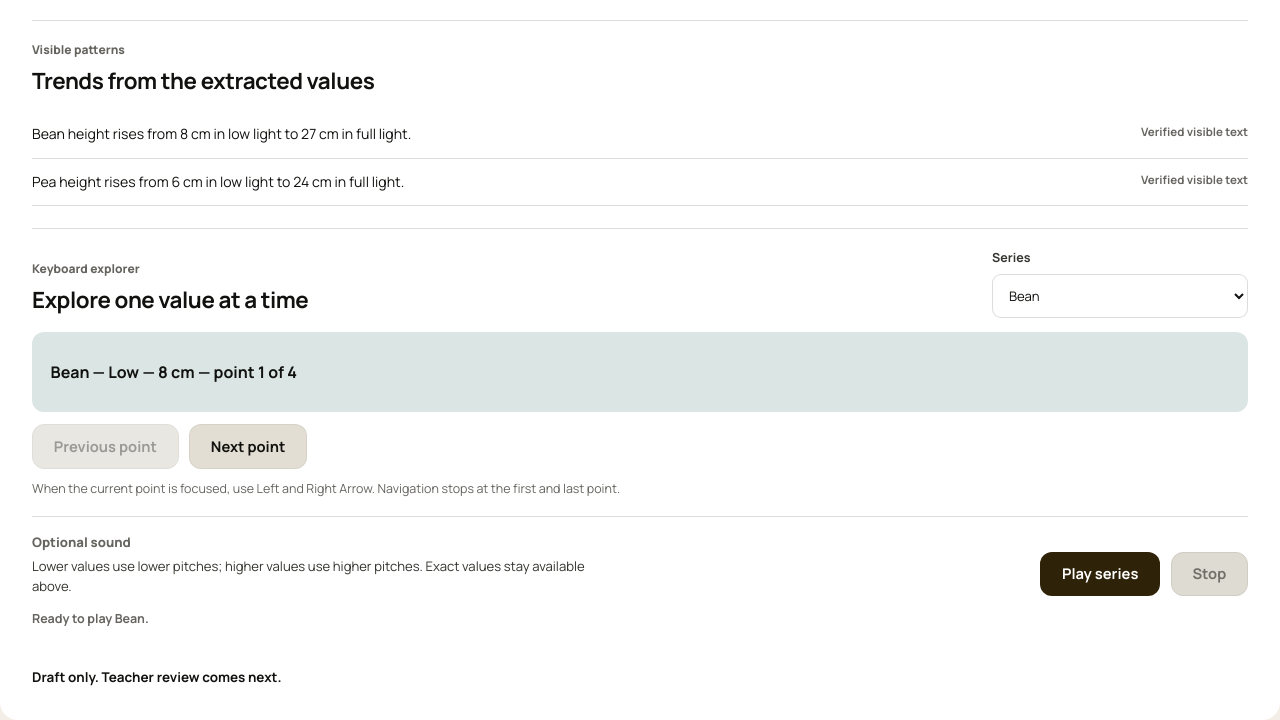
ChartLessonView › resets to the first point when the series changes
(page scrolled)
Expected: the text "Bean — Low — 8 cm — point 1 of 4" is shown, [32, 332, 1248, 412]
Step 1. Click the button "Next point" → (248, 446), box [189, 424, 307, 469]
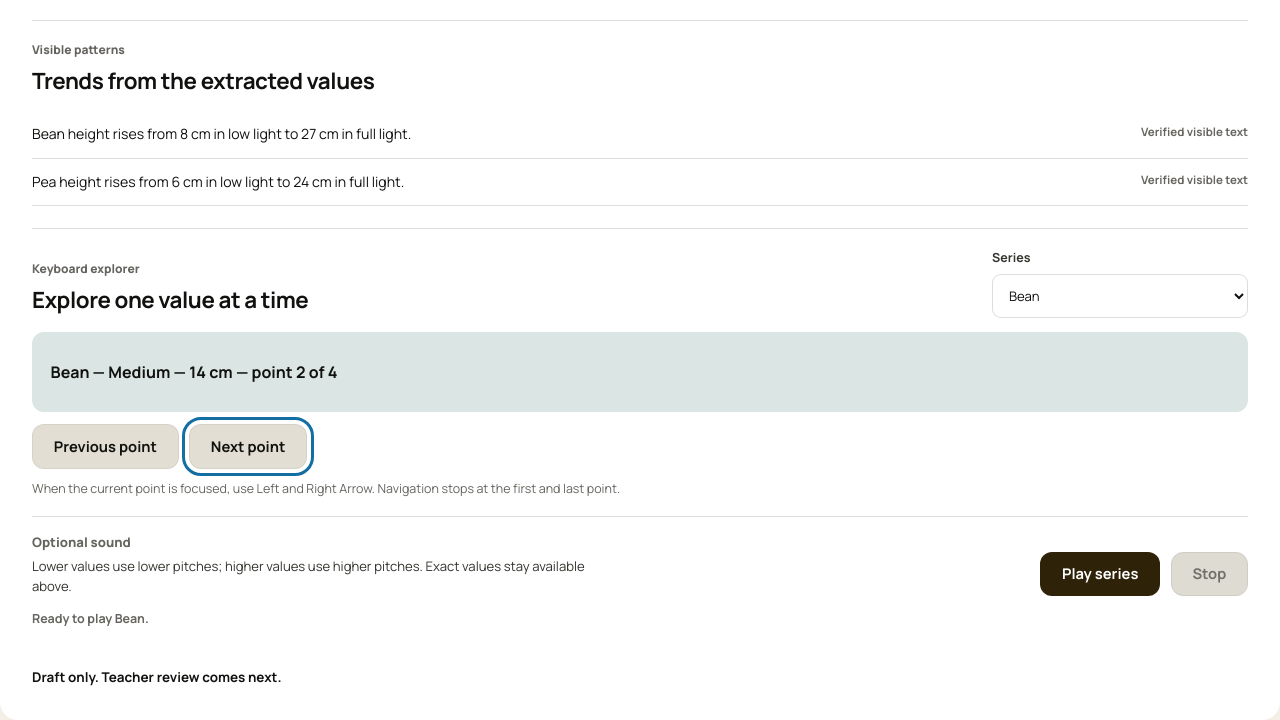
Expected: the text "Bean — Medium — 14 cm — point 2 of 4" is shown, [51, 360, 338, 384]
Step 2. Select "Pea" in the dropdown labelled "Series" → (1120, 296), box [992, 274, 1248, 318]
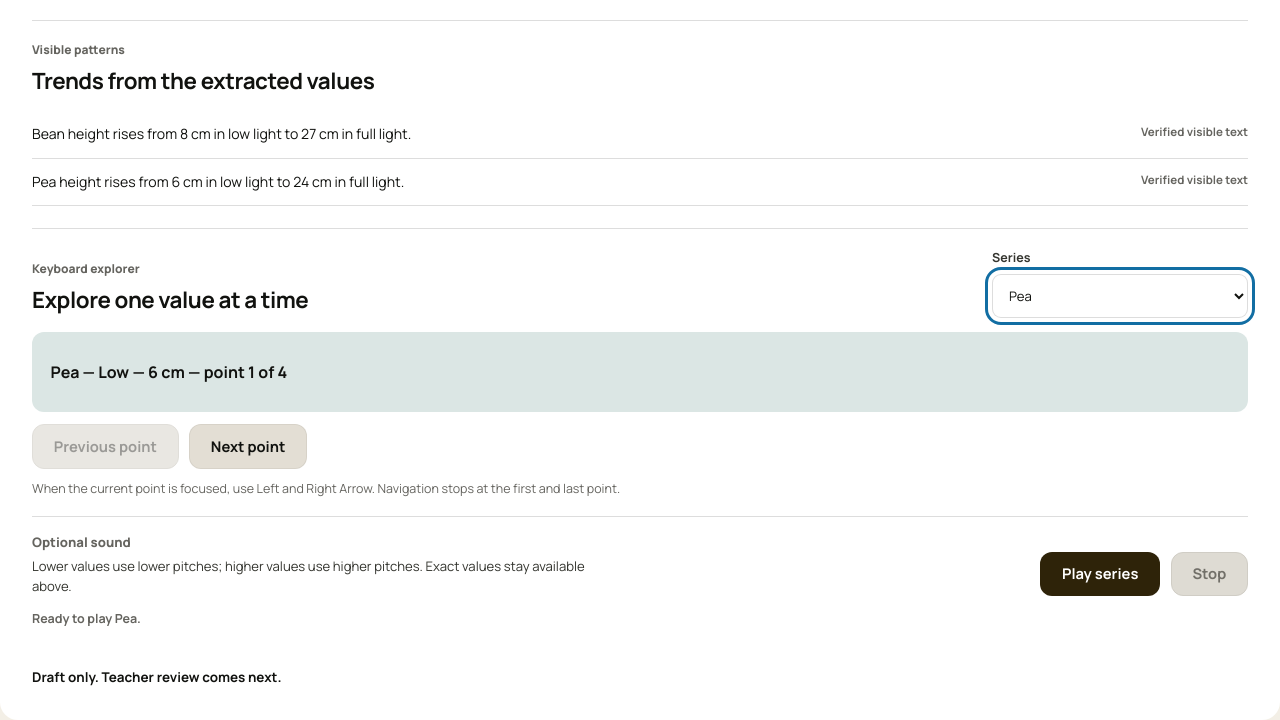
Expected: the text "Pea — Low — 6 cm — point 1 of 4" is shown, [51, 360, 287, 384]
Expected: the button "Previous point" is disabled, [32, 424, 179, 469]
